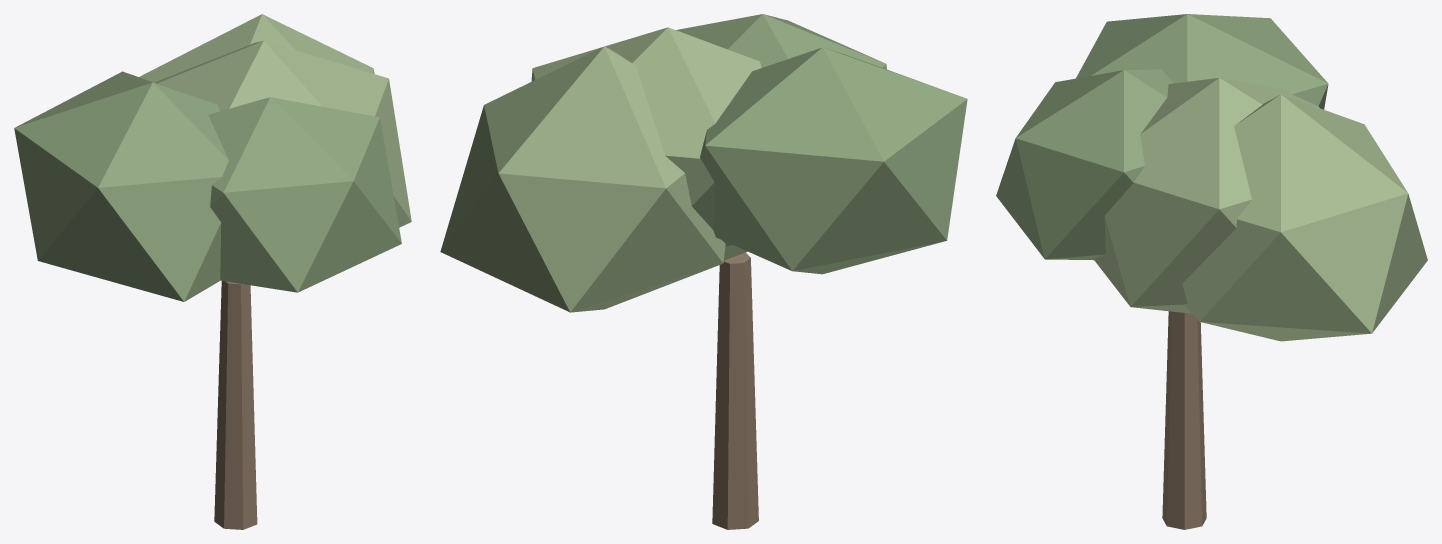
File: quercia_1.glb
The picture shows the model from 3 angles, left to right: view 1: azimuth 30°, elevation 25°; view 2: azimuth 150°, elevation 25°; view 3: azimuth 270°, elevation 25°; orthographic projection. The views are drawn at different scales.
Visible parts, largest first — view 1: quercia_1; view 2: quercia_1; view 3: quercia_1.
Boxes of the visible parts, x1,y1,x2,y2 form: quercia_1: (14, 14, 411, 529); quercia_1: (440, 14, 967, 529); quercia_1: (996, 14, 1427, 529).
Bounding box in the file's own units: 8.89 × 10.18 × 8.56.
